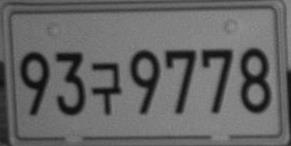3: (55, 51, 86, 116)
7: (201, 48, 233, 112), (165, 49, 196, 114)
8: (239, 47, 271, 113)
9: (129, 48, 161, 114), (19, 50, 50, 115)
구: (90, 61, 122, 115)
